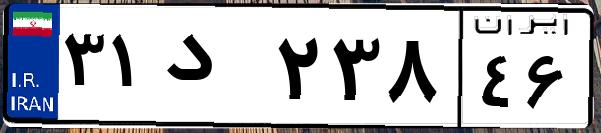1: (110, 28, 158, 98)
2: (270, 28, 330, 110)
3: (330, 28, 385, 110), (57, 26, 110, 100)
4: (475, 38, 525, 113)
6: (525, 38, 570, 115)
8: (385, 28, 445, 110)
د: (158, 20, 270, 120)
